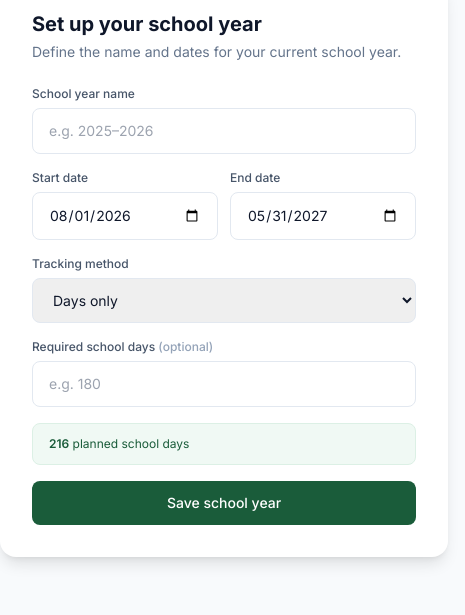
Scenario: SchoolYearForm component › shows the server message on API failure
The width and height of the screenshot is (465, 615).
In the field labelled "School year name": (224, 131) [32, 108, 416, 154], type "Test Year"
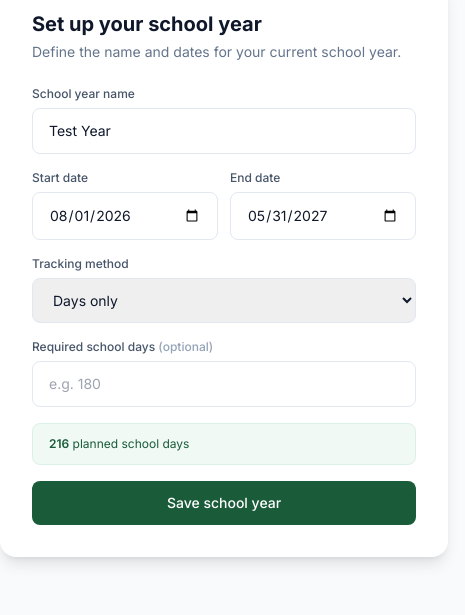
Click the button "Save school year": (224, 503) [32, 481, 416, 525]
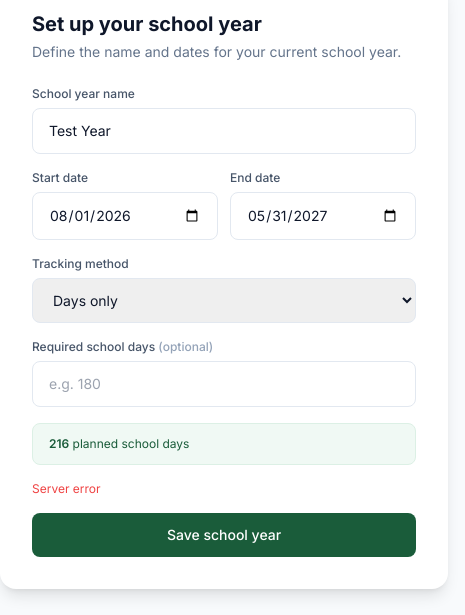
Check: the text "Server error" is shown, box [32, 481, 100, 496]
